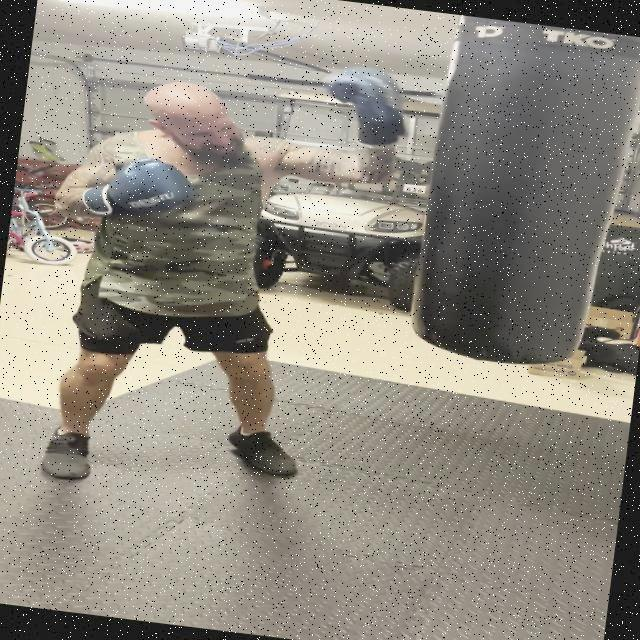punch: (53, 34, 415, 266)
